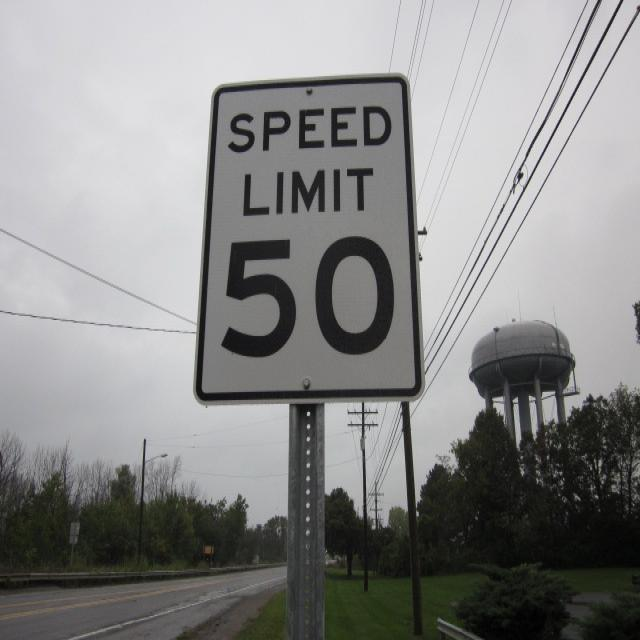regulatory: (192, 71, 425, 409)
